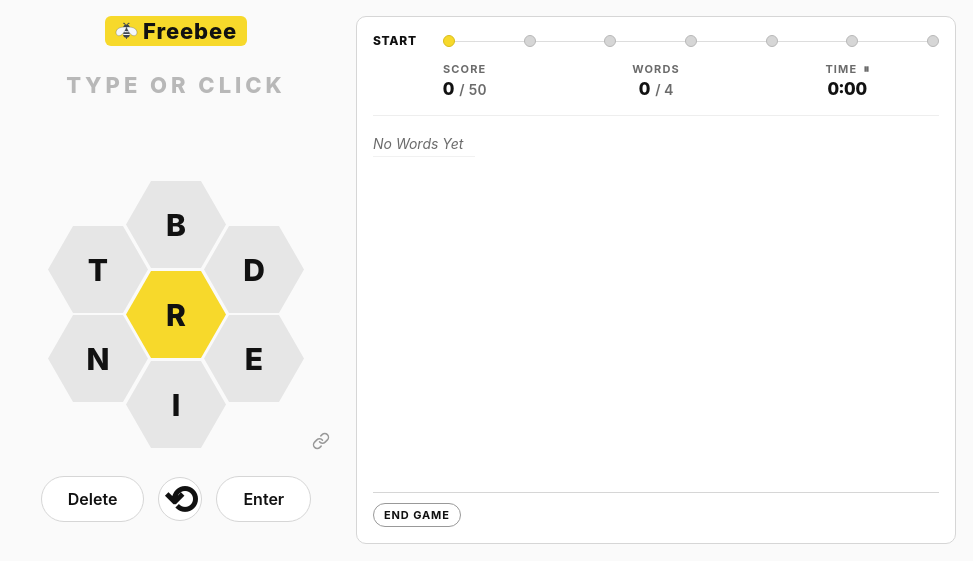
it: Game interactions › End game posts /end and reveals server-provided revealList
Click the button "End game" at (417, 515), box [373,503,461,527]
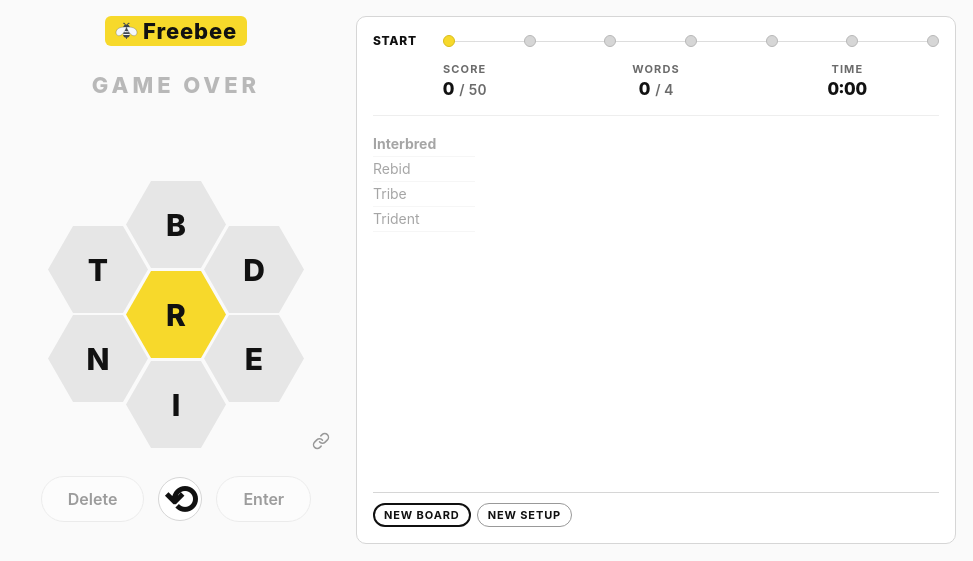
Expected: the list item "tribe" is shown, [373,182,475,207]
Expected: the button "End game" is gone
Expected: the button "New board" is shown, [373,503,471,527]
